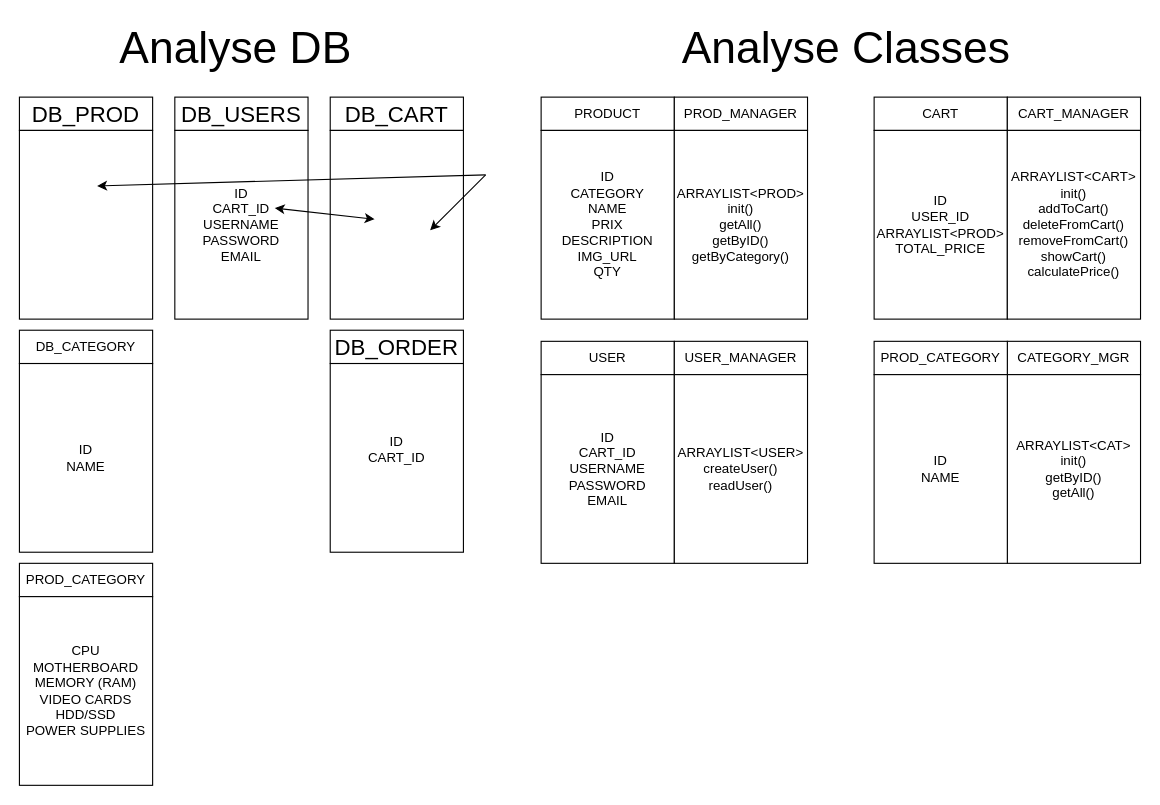
Some shapes in this 1160 by 805 pixel diagram are drawn without their labels. The shapes that lost their labels are listed below. From the top down, each one's centre as x and y in pixels, then its label:
At pixel 85 224: "ID CATEGORY NAME PRIX DESCRIPTION".
At pixel 396 224: "ID USER_ID PROD_ID QTY".
